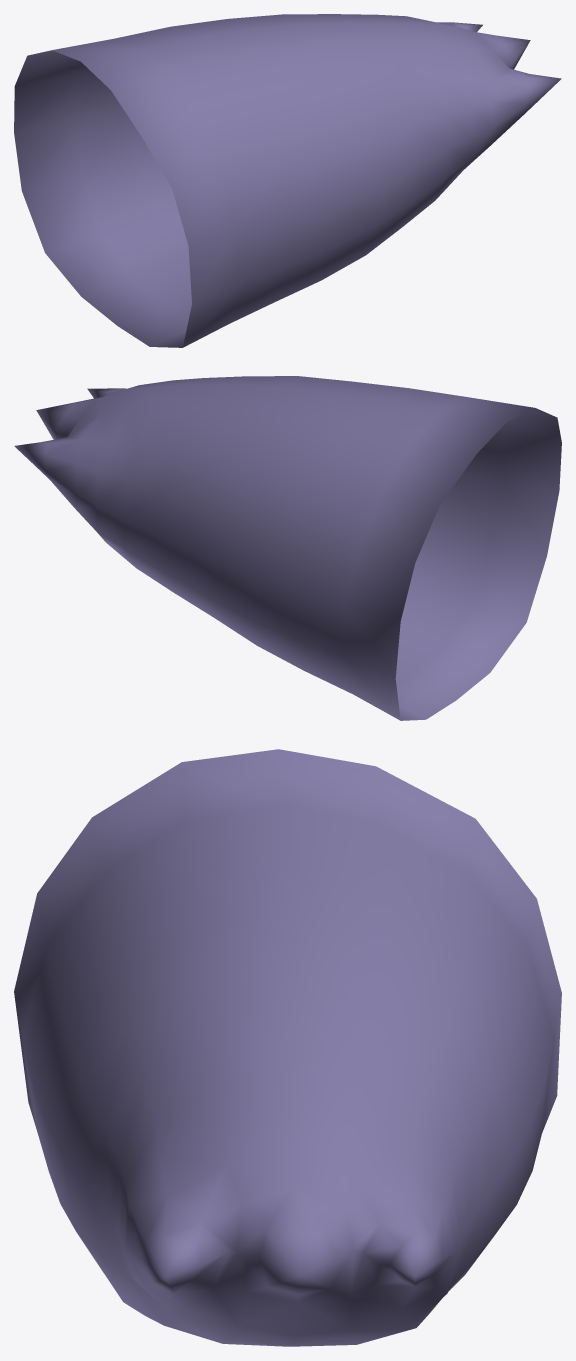
The model's file is gengarBrazoIzq.dae.
The picture shows the model from 3 angles, top to bottom: view 1: azimuth 30°, elevation 25°; view 2: azimuth 150°, elevation 25°; view 3: azimuth 270°, elevation 25°; orthographic projection. The views are drawn at different scales.
Parts seen in each view (by area): view 1: BrazoIzq; view 2: BrazoIzq; view 3: BrazoIzq.
Part boxes in pixels (x1,y1,x2,y2): BrazoIzq: (14,14,561,347); BrazoIzq: (14,376,561,720); BrazoIzq: (14,749,561,1346).
Bounding box in the file's own units: 5.76 × 3.37 × 3.62.
